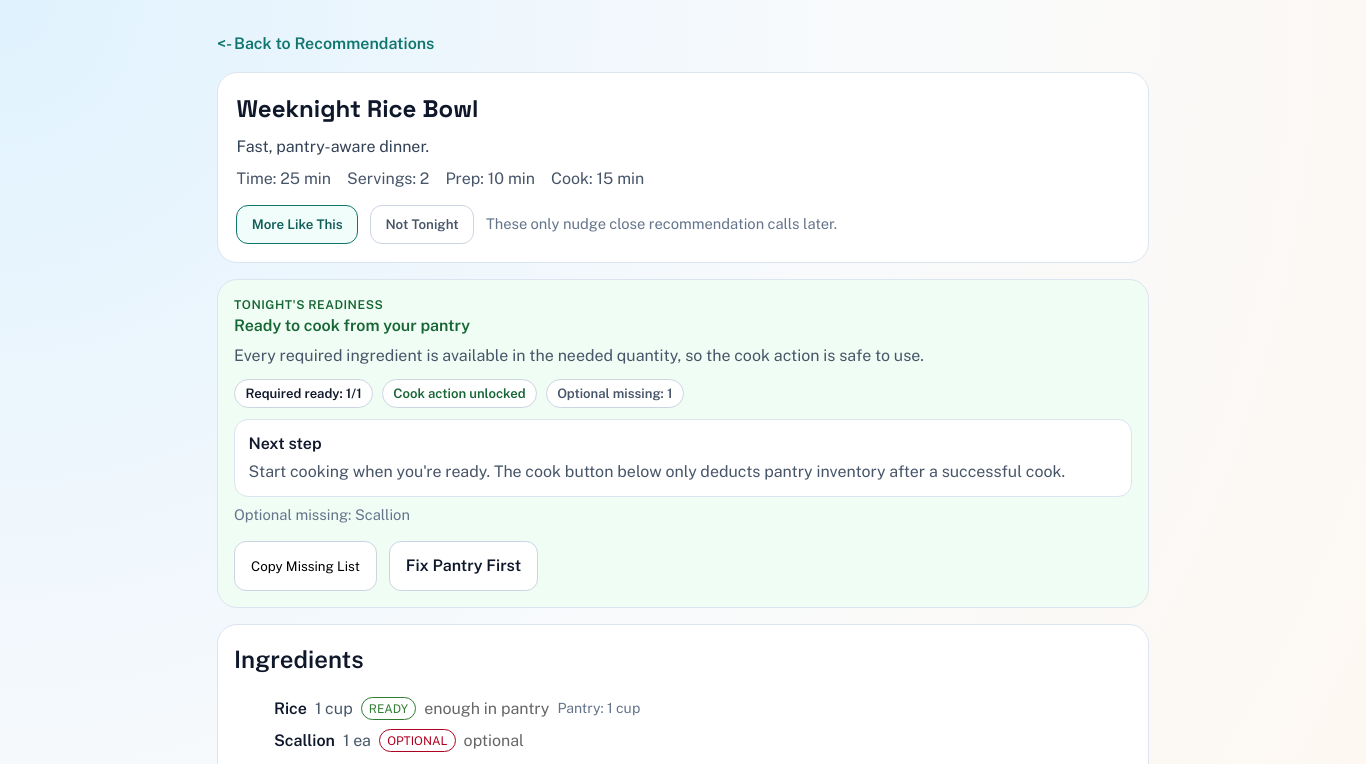
Test: RecipeDetailPage › sends positive and negative preference signals from recipe detail
The image size is (1366, 764).
Click the button "More Like This". click: {"x": 297, "y": 224}
box: [236,205,358,244]
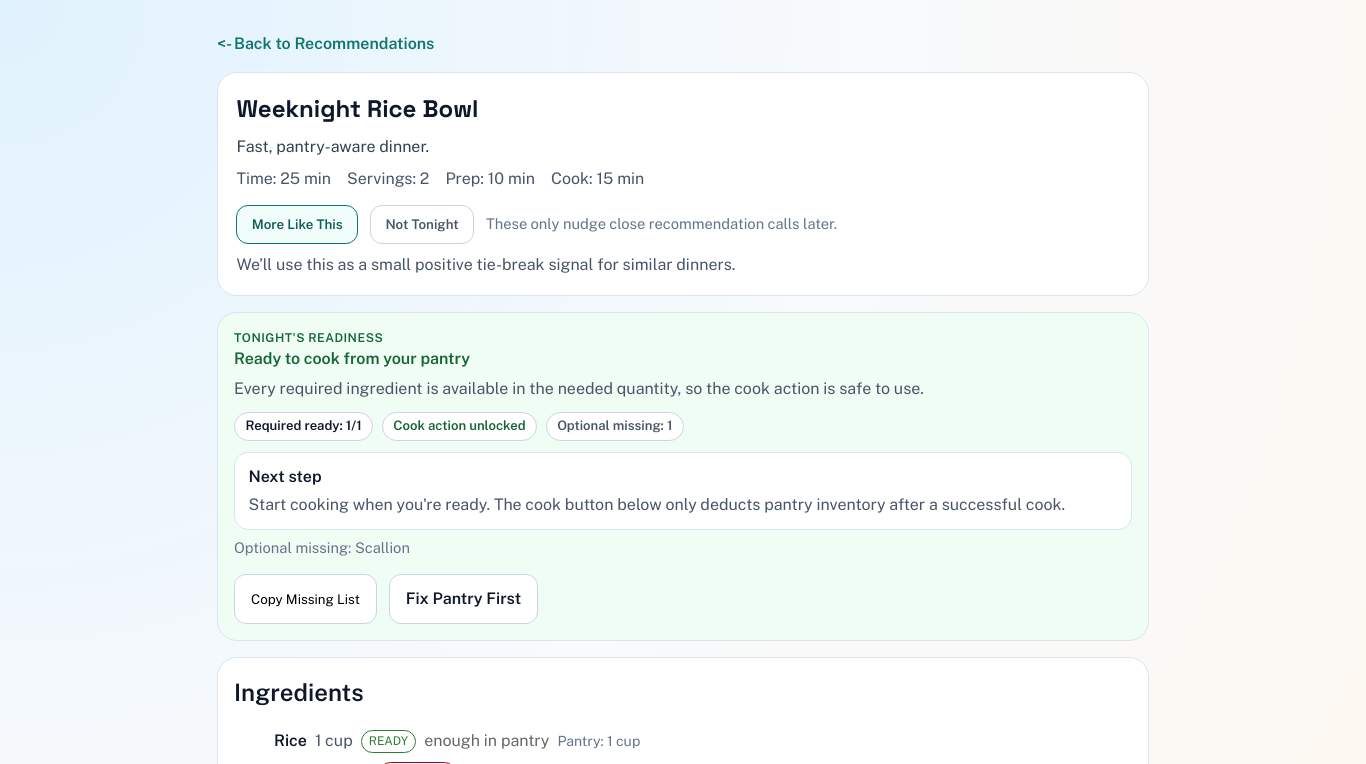
Result: the text "small positive tie-break signal" is shown at [236,254,735,274]
Click the button "Not Tonight". click: {"x": 422, "y": 224}
box: [370,205,474,244]
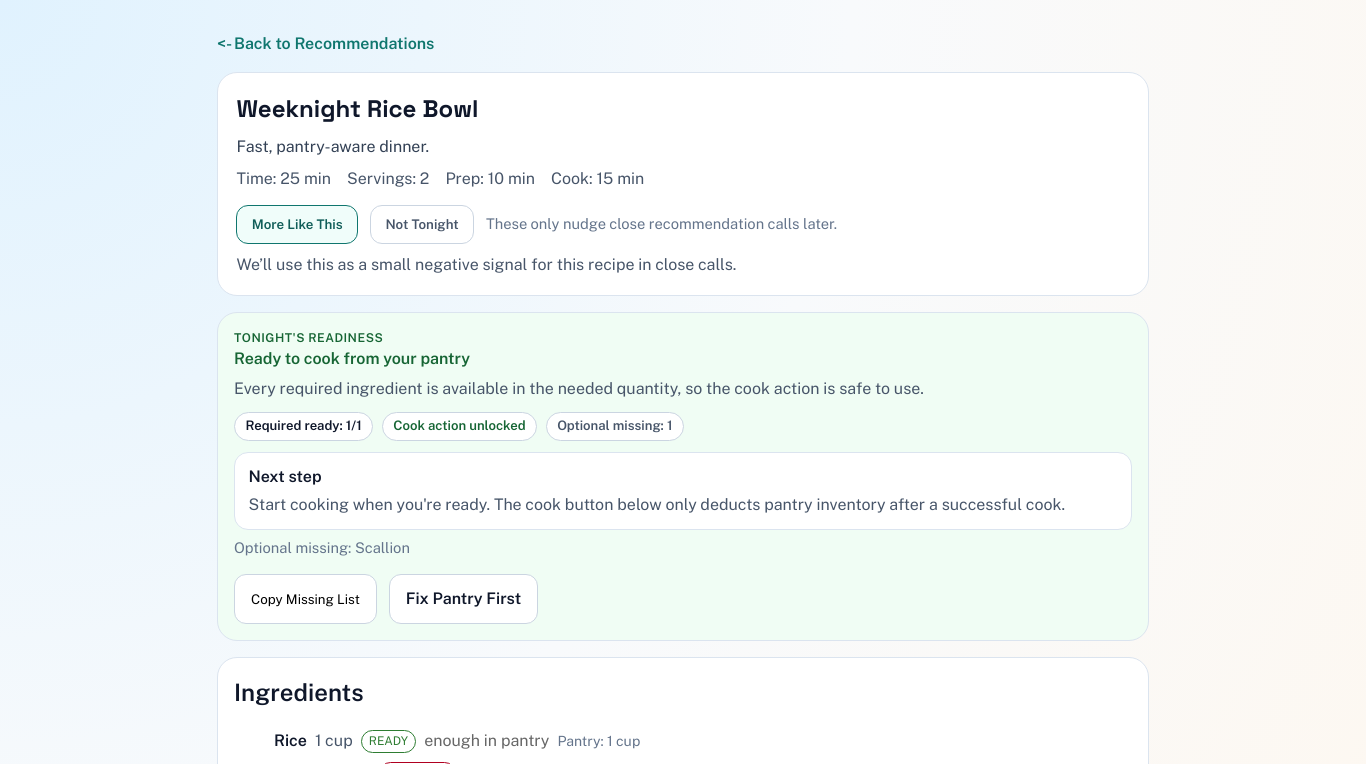
Result: the text "small negative signal for this recipe" is shown at [236,254,736,274]
